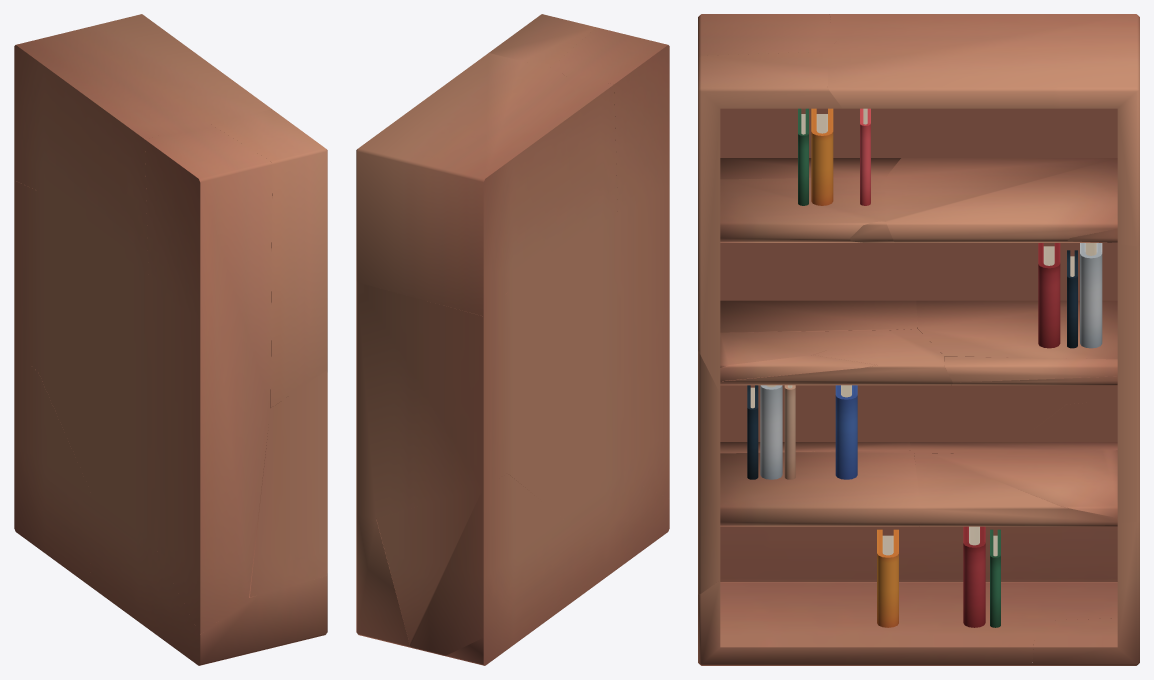
Rendered from Shelves5.fbx.
3 views of the same model, side by side, from view 1: azimuth 30°, elevation 25°; view 2: azimuth 150°, elevation 25°; view 3: azimuth 270°, elevation 25° (orthographic). The views are drawn at different scales.
Parts seen in each view (by area): view 1: BookShelves2.001_cell.015, BookShelves2.001_cell.013, BookShelves2.001_cell.020, BookShelves2.001_cell.019, BookShelves2.001_cell.012, BookShelves2.001_cell.014, BookShelves2.001_cell.011, BookShelves2.001_cell.018, BookShelves2.001_cell.017; view 2: BookShelves2.001_cell.020, BookShelves2.001_cell.013, BookShelves2.001_cell.018, BookShelves2.001_cell.015, BookShelves2.001_cell.011, BookShelves2.001_cell.012, BookShelves2.001_cell.016, BookShelves2.001_cell.019, BookShelves2.001_cell.017; view 3: BookShelves2.001_cell.012, BookShelves2.001_cell.020, BookShelves2.001_cell.013, BookShelves2.002_cell.024, BookShelves2.001_cell.015, BookShelves2.001_cell.011, BookShelves2.001_cell.019, BookShelves2.002_cell.019, BookShelves2.002_cell.028, BookShelves2.002_cell.027, BookShelves2.001_cell.018, BookShelves2.002_cell.021 (+26 smaller).
Boxes of the visible parts, box(x1,y1,x2,y2) form: BookShelves2.001_cell.015: box(145, 124, 272, 634); BookShelves2.001_cell.013: box(38, 125, 193, 548); BookShelves2.001_cell.020: box(14, 14, 271, 190); BookShelves2.001_cell.019: box(210, 109, 327, 407); BookShelves2.001_cell.012: box(90, 502, 327, 665); BookShelves2.001_cell.014: box(249, 370, 327, 597); BookShelves2.001_cell.011: box(14, 351, 94, 566); BookShelves2.001_cell.018: box(14, 180, 38, 371); BookShelves2.001_cell.017: box(14, 502, 90, 586); BookShelves2.001_cell.020: box(356, 53, 595, 316); BookShelves2.001_cell.013: box(507, 73, 625, 519); BookShelves2.001_cell.018: box(356, 281, 507, 518); BookShelves2.001_cell.015: box(551, 27, 669, 498); BookShelves2.001_cell.011: box(376, 473, 564, 655); BookShelves2.001_cell.012: box(559, 478, 669, 610); BookShelves2.001_cell.016: box(356, 512, 411, 647); BookShelves2.001_cell.019: box(489, 14, 595, 67); BookShelves2.001_cell.017: box(445, 592, 559, 665); BookShelves2.001_cell.012: box(698, 526, 1035, 665); BookShelves2.001_cell.020: box(828, 14, 1139, 246); BookShelves2.001_cell.013: box(808, 14, 1066, 441); BookShelves2.002_cell.024: box(886, 158, 1117, 242); BookShelves2.001_cell.015: box(698, 14, 833, 540); BookShelves2.001_cell.011: box(985, 400, 1117, 620); BookShelves2.001_cell.019: box(698, 51, 842, 392); BookShelves2.002_cell.019: box(720, 450, 920, 526); BookShelves2.002_cell.028: box(720, 177, 885, 242); BookShelves2.002_cell.027: box(916, 300, 1117, 359); BookShelves2.001_cell.018: box(1066, 242, 1139, 523); BookShelves2.002_cell.021: box(914, 453, 1117, 526).
Bounding box in the file's own units: 1.53 × 0.6103 × 2.21.
